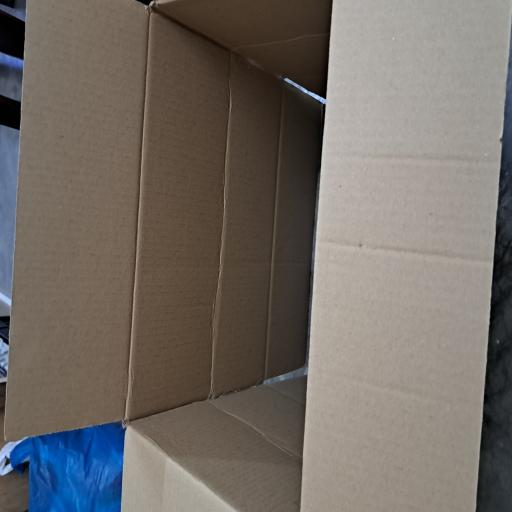cardboard: (0, 6, 384, 512)
plastic bag: (0, 11, 65, 165)
